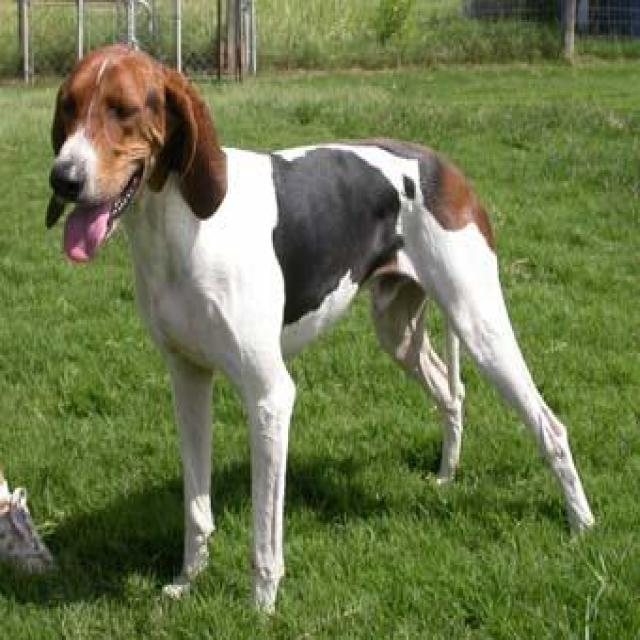happy: (36, 11, 640, 611)
